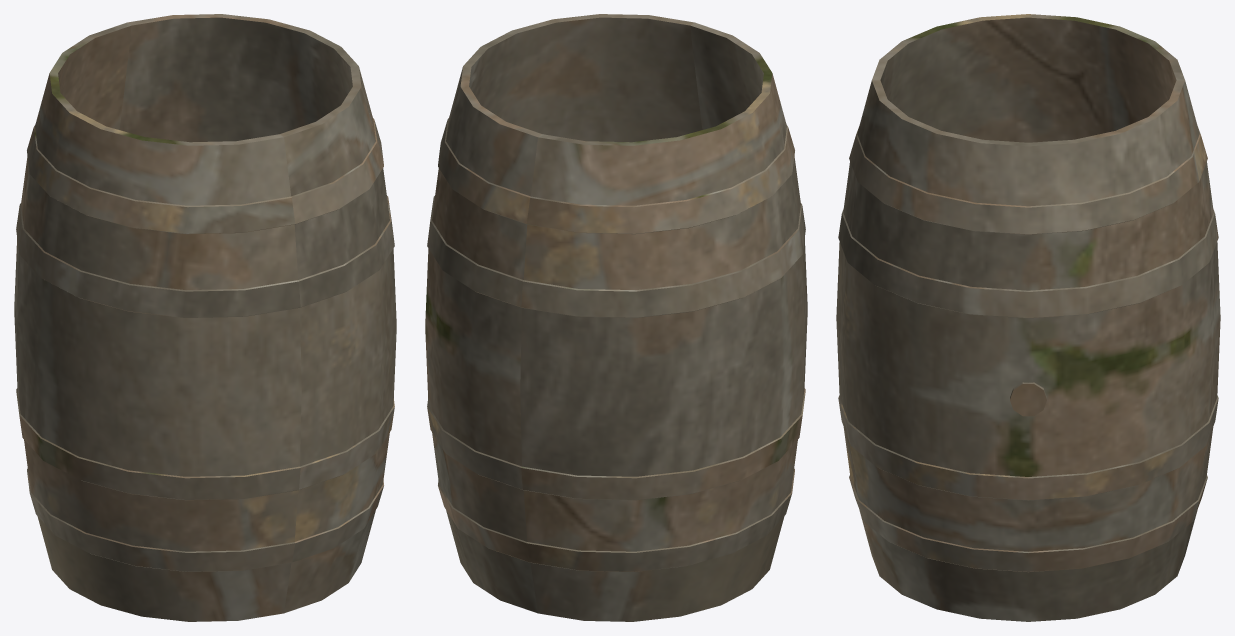
File: openbarrel.fbx
3 renders of one model, left to right at view 1: azimuth 30°, elevation 25°; view 2: azimuth 150°, elevation 25°; view 3: azimuth 270°, elevation 25°, orthographic.
Visible parts, largest first — view 1: Cylinder.073; view 2: Cylinder.073; view 3: Cylinder.073.
Part boxes in pixels (x1,y1,x2,y2): Cylinder.073: [14, 14, 396, 621]; Cylinder.073: [425, 14, 807, 621]; Cylinder.073: [836, 14, 1220, 621].
Bounding box in the file's own units: 61.69 × 83.77 × 61.34.
